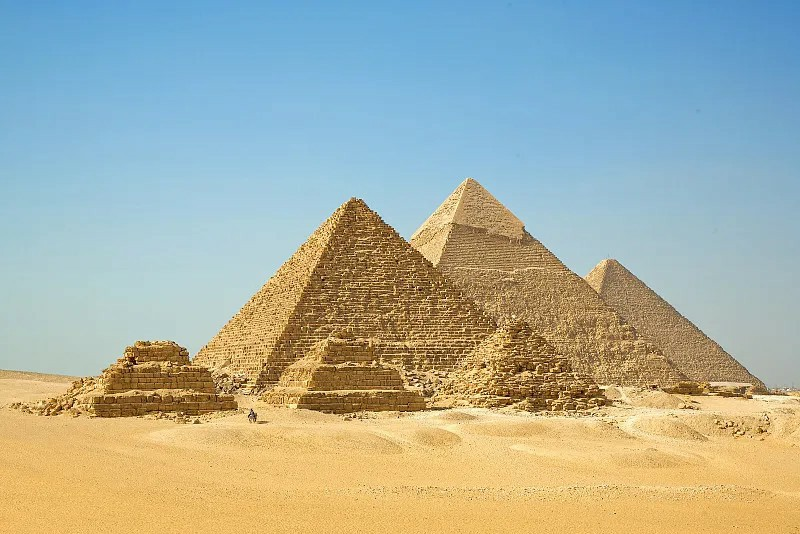Pyramid: (408, 178, 703, 393), (194, 198, 495, 405), (583, 259, 768, 391), (433, 319, 616, 414), (263, 329, 427, 413), (73, 342, 243, 416)
